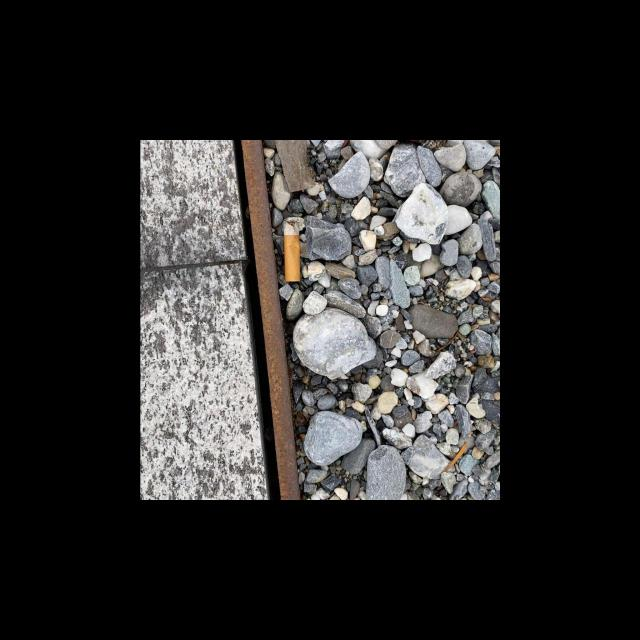cigarette: (283, 219, 300, 282)
